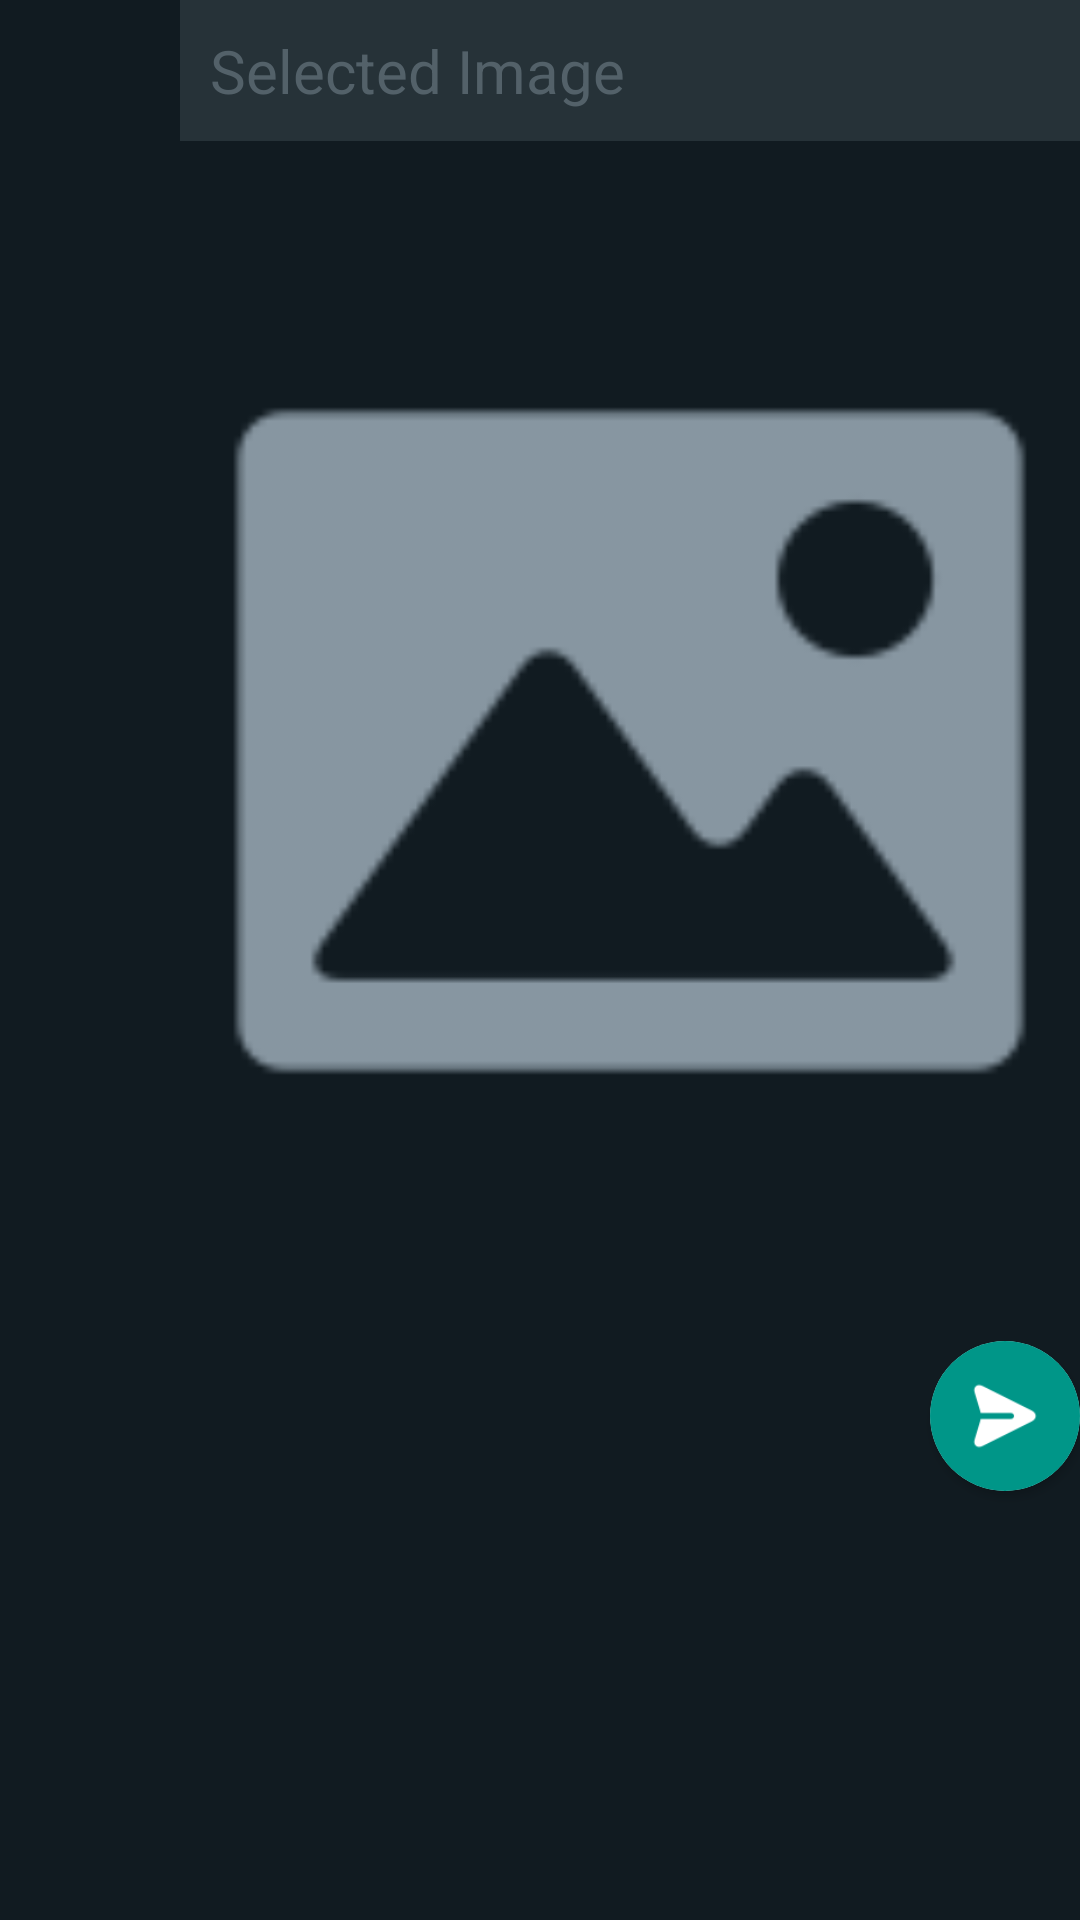

Named icons in this screenshot (1080w x 1920h) and their centers, point (x, y):
send: point (1005, 1416)
